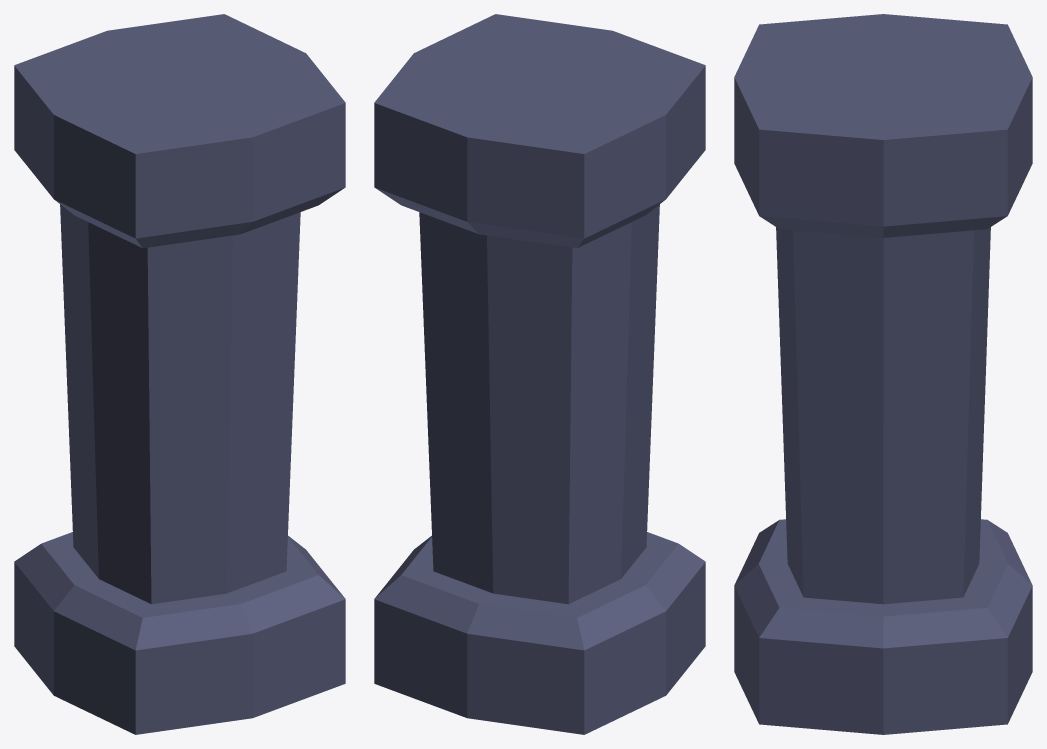
Rendered from kenney_mini-dungeon__column__cave.fbx.
3 renders of one model, left to right at view 1: azimuth 30°, elevation 25°; view 2: azimuth 150°, elevation 25°; view 3: azimuth 270°, elevation 25°, orthographic. The views are drawn at different scales.
Visible parts, largest first — view 1: kenney_mini-dungeon__column__cave_stone; view 2: kenney_mini-dungeon__column__cave_stone; view 3: kenney_mini-dungeon__column__cave_stone.
Boxes of the visible parts, box(x1,y1,x2,y2) form: kenney_mini-dungeon__column__cave_stone: box(14, 14, 345, 734); kenney_mini-dungeon__column__cave_stone: box(374, 14, 705, 734); kenney_mini-dungeon__column__cave_stone: box(734, 14, 1032, 734).
Size of the model in its own units: 1.79 by 3.93 by 1.79.
1 material, 1 textured.
